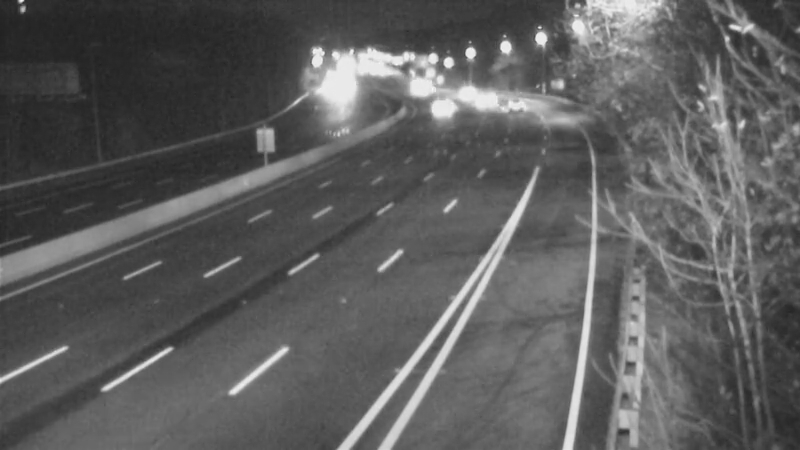vehicle: (435, 66, 485, 116), (454, 73, 504, 123), (417, 79, 467, 129), (490, 80, 540, 130)
